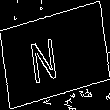N_N: (39, 26, 71, 84)
